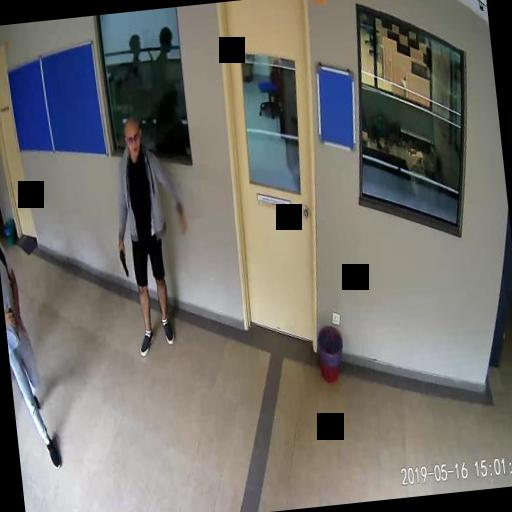Handgun: (116, 244, 129, 278)
